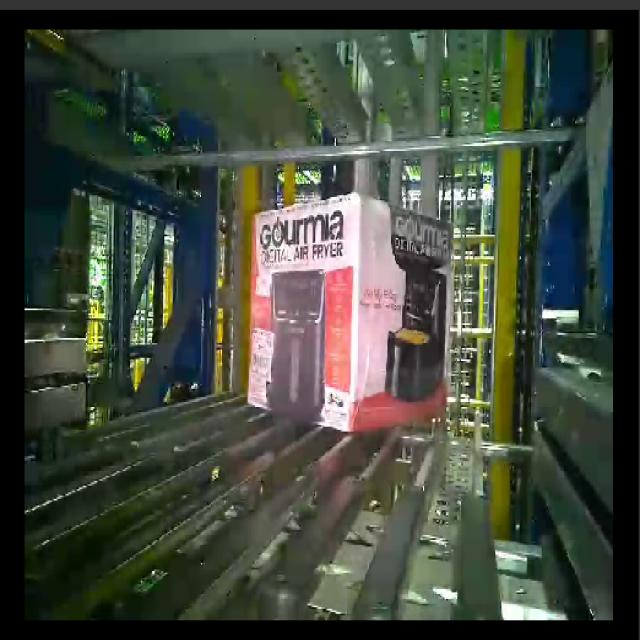box: (246, 187, 360, 434)
